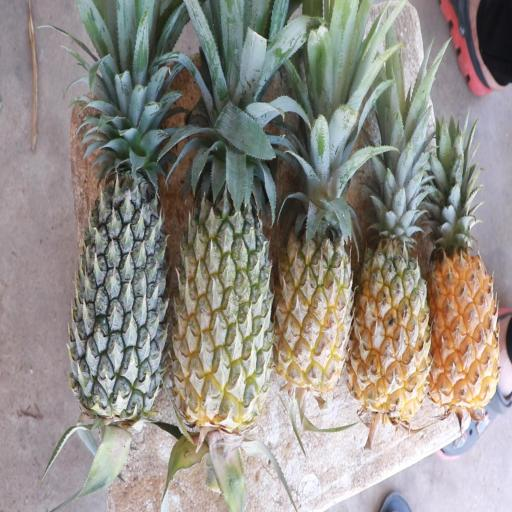------------------------------: (174, 153, 268, 424), (76, 145, 164, 412)
Pineapple - v8 v1: (356, 181, 431, 416), (280, 170, 354, 379), (425, 214, 498, 408)
